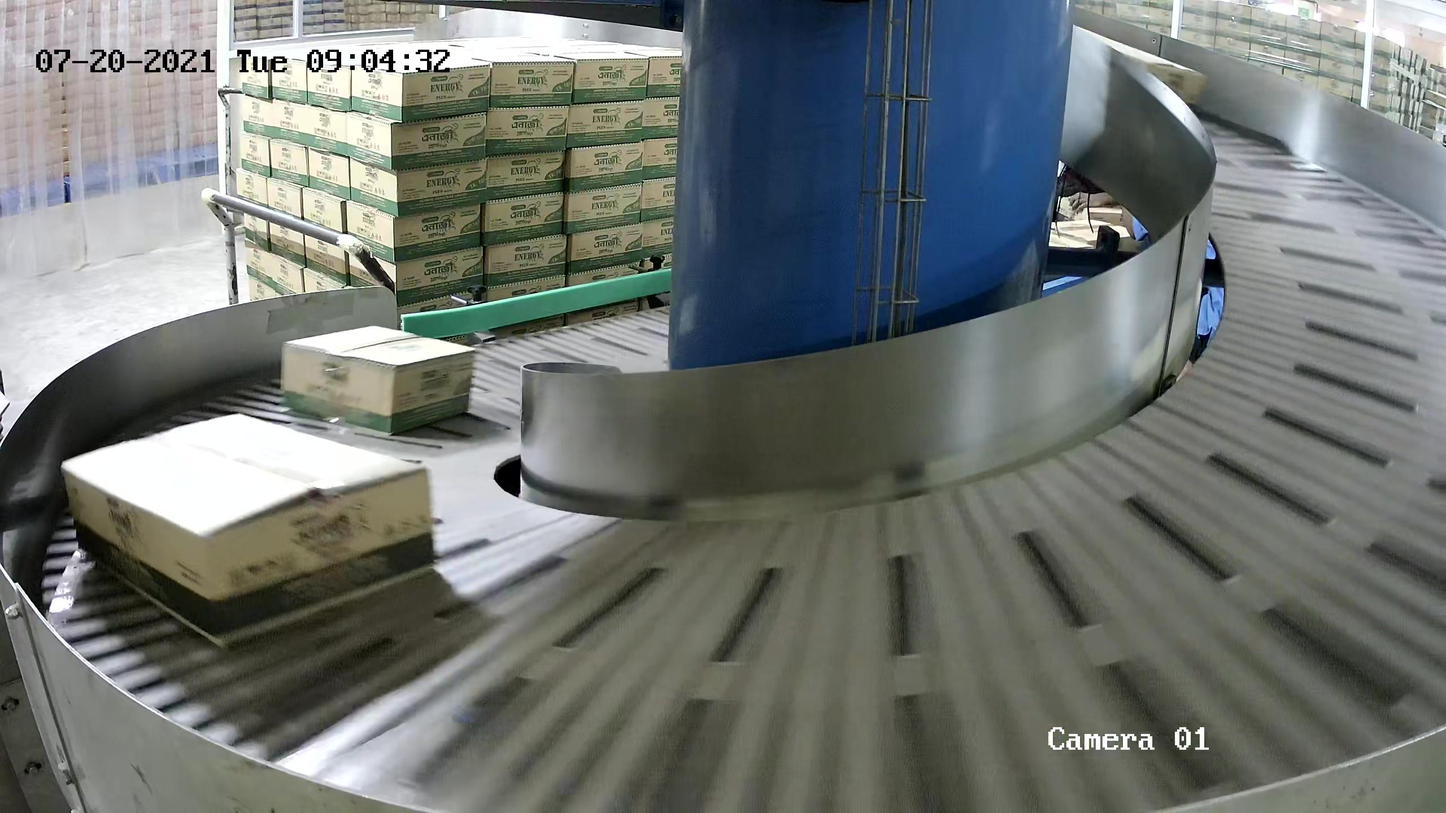Box: (60, 412, 437, 651), (280, 323, 478, 435)
